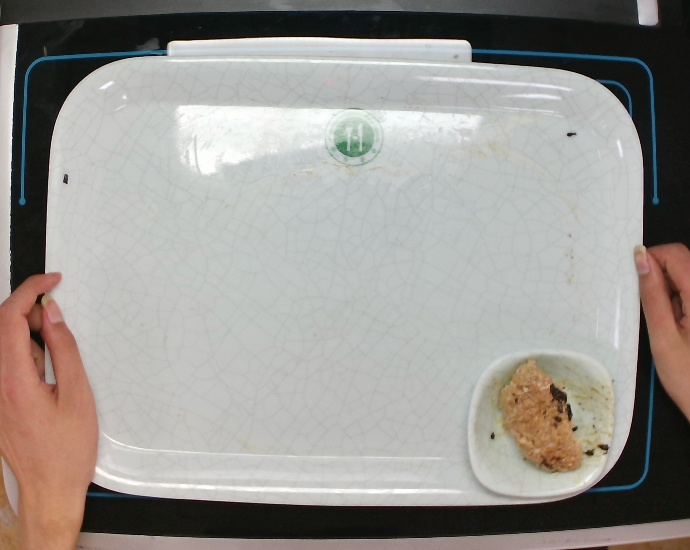JYsf-Si_Fang_Die: (463, 346, 618, 501)
